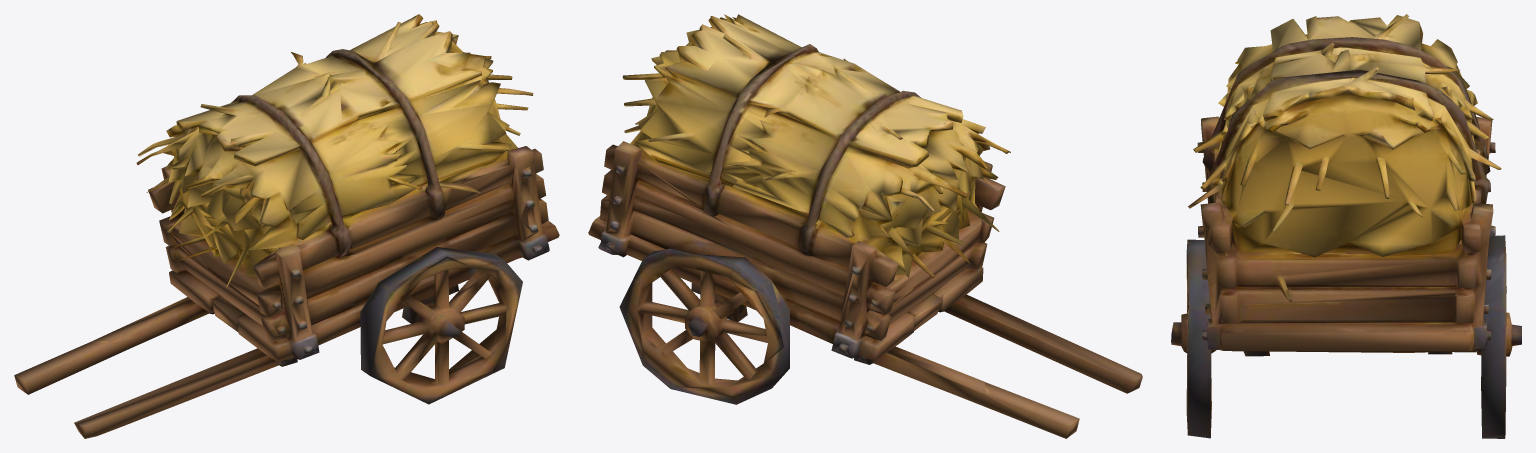
Rendered from haycart-a.glb.
3 views of the same model, side by side, from view 1: azimuth 30°, elevation 25°; view 2: azimuth 150°, elevation 25°; view 3: azimuth 270°, elevation 25° (orthographic). The views are drawn at different scales.
Visible parts, largest first — view 1: node_0; view 2: node_0; view 3: node_0.
Boxes of the visible parts, x1,y1,x2,y2 form: node_0: [14, 14, 559, 438]; node_0: [588, 14, 1142, 438]; node_0: [1171, 14, 1521, 438].
Bounding box in the file's own units: 2.75 × 1.8 × 1.51.
Materials: 1 (1 with a texture image).
